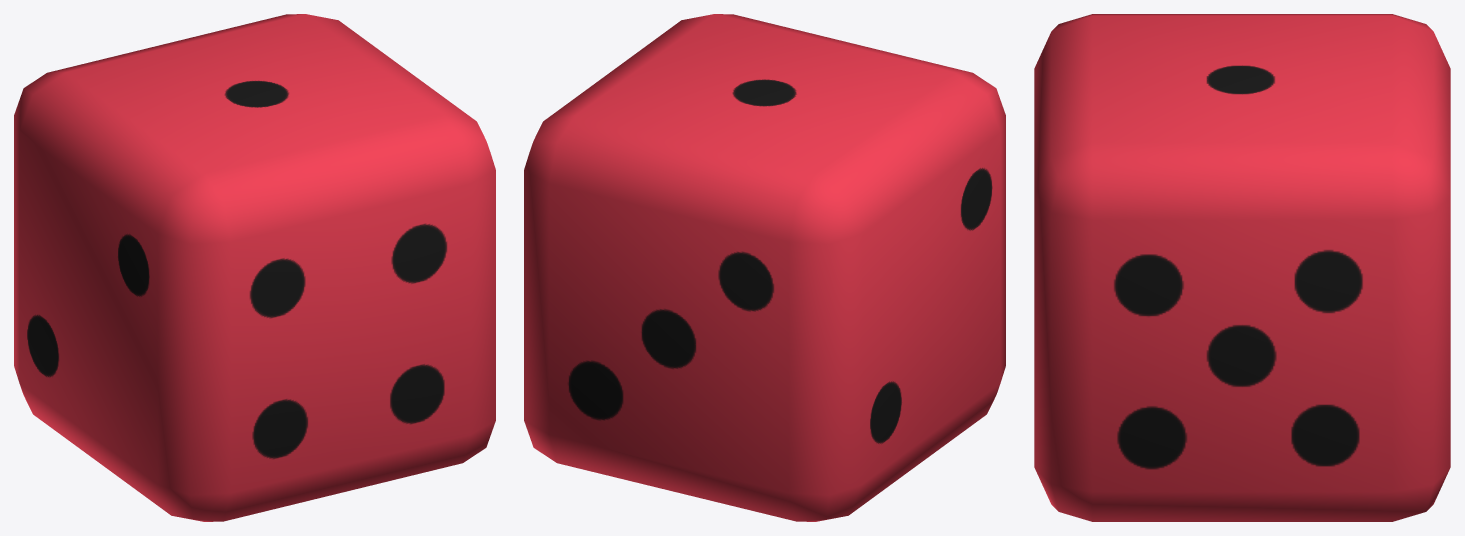
3 renders of one model, left to right at view 1: azimuth 30°, elevation 25°; view 2: azimuth 150°, elevation 25°; view 3: azimuth 270°, elevation 25°, orthographic. The views are drawn at different scales.
Parts seen in each view (by area): view 1: Die; view 2: Die; view 3: Die.
Boxes of the visible parts, x1,y1,x2,y2 form: Die: (14, 14, 495, 521); Die: (524, 14, 1005, 521); Die: (1034, 14, 1450, 521).
Bounding box in the file's own units: 1 × 1 × 1.
Materials: 1 (1 with a texture image).
